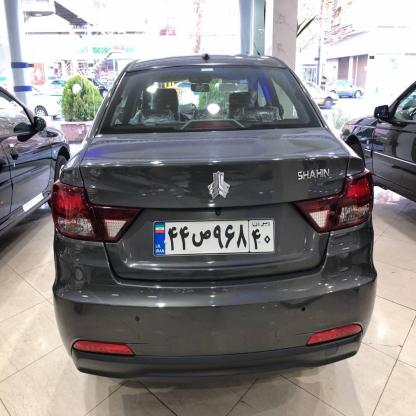Car: (51, 48, 372, 396), (0, 54, 122, 323), (330, 77, 416, 240), (320, 72, 379, 116), (289, 76, 342, 120)
